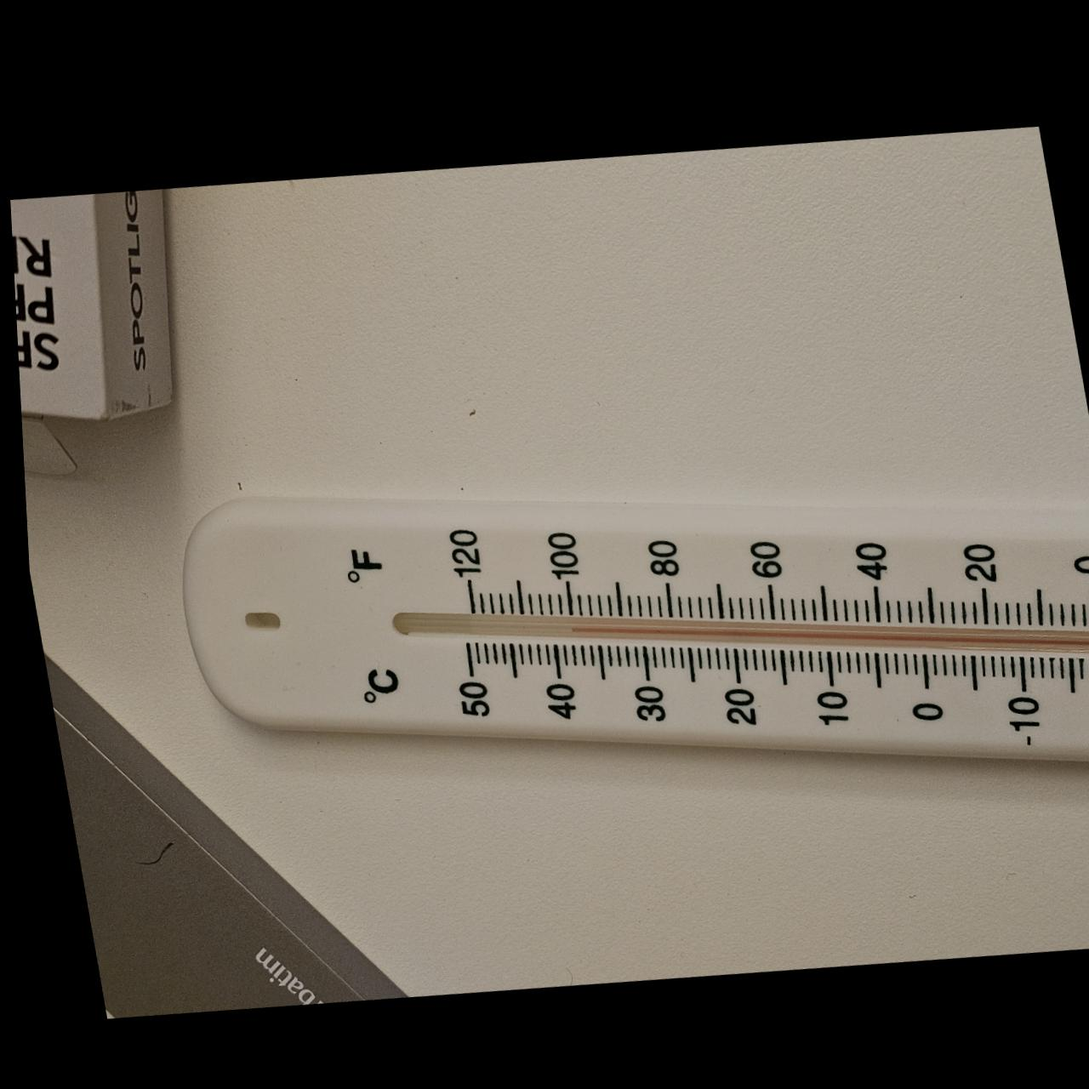thermometer: (156, 385, 1089, 883)
